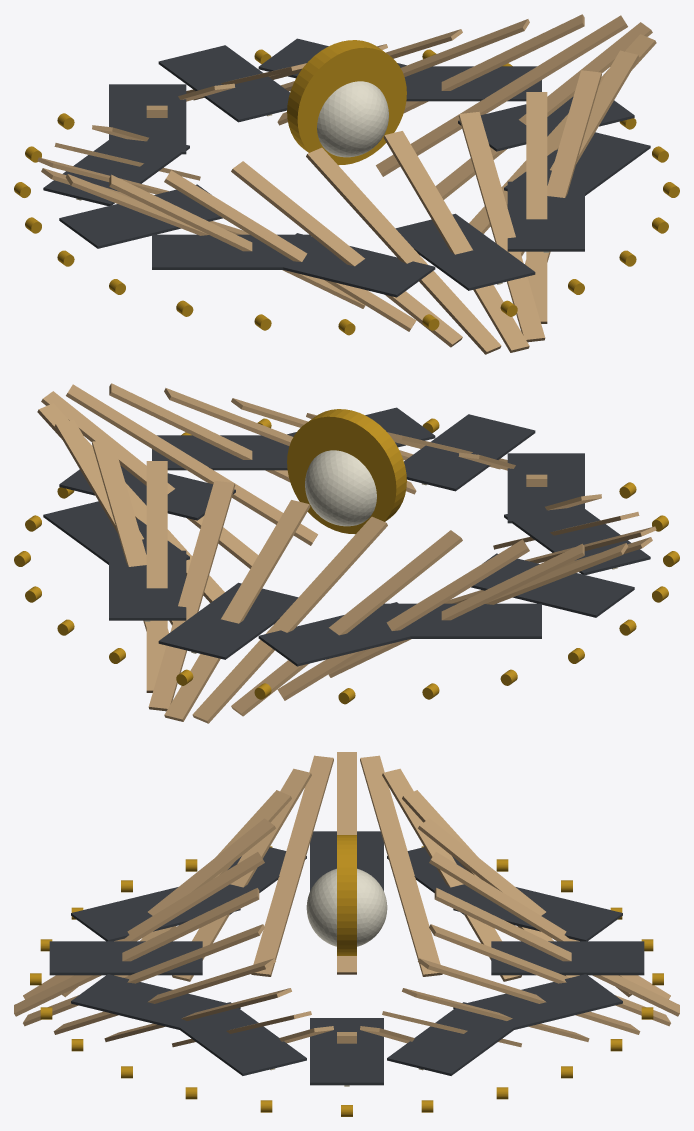
The model's file is stratavox_cloud.obj.
The picture shows the model from 3 angles, top to bottom: view 1: azimuth 30°, elevation 25°; view 2: azimuth 150°, elevation 25°; view 3: azimuth 270°, elevation 25°; orthographic projection. The views are drawn at different scales.
Parts seen in each view (by area): view 1: geometry_0, geometry_58, geometry_28, geometry_22, geometry_24, geometry_18, geometry_20, geometry_1, geometry_34, geometry_16, geometry_46, geometry_14 (+20 smaller); view 2: geometry_0, geometry_22, geometry_58, geometry_54, geometry_46, geometry_60, geometry_52, geometry_56, geometry_1, geometry_64, geometry_28, geometry_34 (+20 smaller); view 3: geometry_10, geometry_70, geometry_36, geometry_42, geometry_4, geometry_22, geometry_58, geometry_64, geometry_16, geometry_1, geometry_28, geometry_52 (+21 smaller).
Boxes of the visible parts, box(x1,y1,x2,y2) form: geometry_0: box(287, 40, 406, 165); geometry_58: box(158, 45, 289, 122); geometry_28: box(260, 233, 435, 297); geometry_22: box(395, 213, 535, 290); geometry_24: box(306, 147, 501, 354); geometry_18: box(458, 111, 545, 342); geometry_20: box(383, 131, 529, 352); geometry_1: box(317, 81, 388, 157); geometry_34: box(152, 234, 311, 269); geometry_16: box(507, 181, 584, 251); geometry_46: box(43, 129, 189, 205); geometry_14: box(526, 92, 547, 323); geometry_0: box(287, 409, 406, 534); geometry_22: box(404, 414, 535, 491); geometry_58: box(158, 582, 298, 659); geometry_54: box(192, 516, 387, 723); geometry_46: box(382, 603, 541, 638); geometry_60: box(148, 480, 235, 711); geometry_52: box(258, 602, 432, 666); geometry_56: box(164, 500, 310, 721); geometry_1: box(305, 450, 376, 526); geometry_64: box(109, 550, 186, 620); geometry_28: box(507, 453, 584, 523); geometry_34: box(504, 498, 650, 574); geometry_10: box(166, 1002, 306, 1075); geometry_70: box(387, 1002, 527, 1075); geometry_36: box(251, 755, 333, 976); geometry_42: box(360, 755, 442, 976); geometry_4: box(310, 1018, 383, 1085); geometry_22: box(49, 941, 202, 975); geometry_58: box(491, 941, 644, 975); geometry_64: box(453, 974, 622, 1032); geometry_16: box(71, 974, 240, 1029); geometry_1: box(306, 868, 387, 946); geometry_28: box(71, 887, 240, 941); geometry_52: box(453, 887, 622, 941).
Size of the model in its own units: 1.98 by 0.5636 by 1.98.
